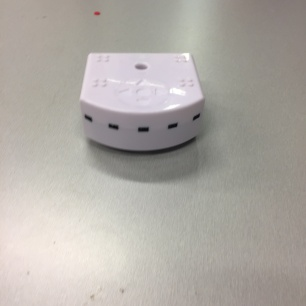thymio: (78, 44, 211, 152)
